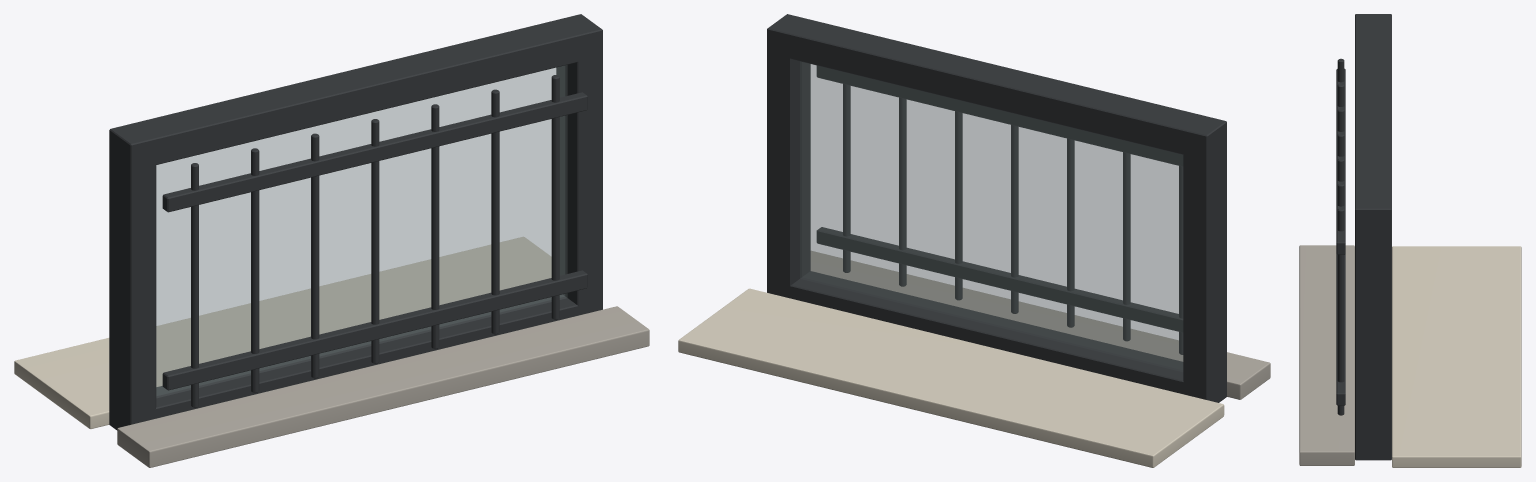
File: prop_window_w100_h60_barred.glb
The picture shows the model from 3 angles, left to right: view 1: azimuth 30°, elevation 25°; view 2: azimuth 150°, elevation 25°; view 3: azimuth 270°, elevation 25°; orthographic projection. The views are drawn at different scales.
Parts seen in each view (by area): view 1: Frame, Glass; view 2: Frame, Glass; view 3: Frame.
Part boxes in pixels (x1=…): Frame: x1=14, y1=14, x2=649, y2=467; Glass: x1=156, y1=65, x2=567, y2=397; Frame: x1=678, y1=14, x2=1270, y2=467; Glass: x1=800, y1=62, x2=1182, y2=371; Frame: x1=1299, y1=14, x2=1521, y2=467.
Size of the model in its own units: 1.08 by 0.6 by 0.48.
